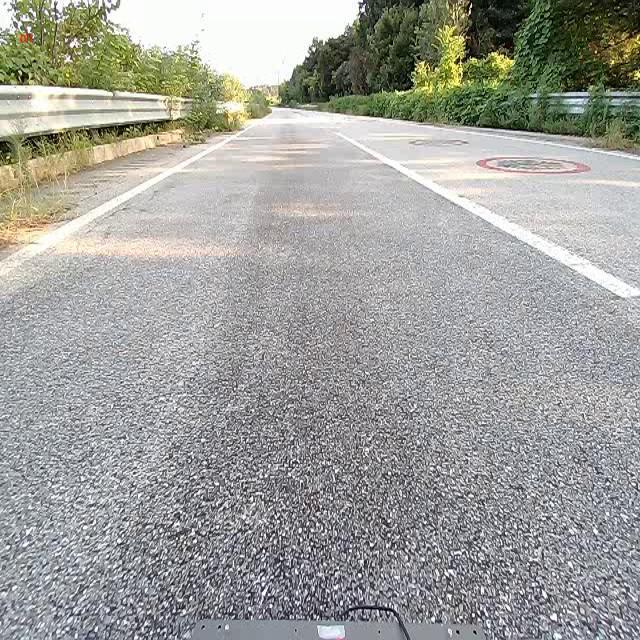Lane: (340, 127, 640, 302), (341, 132, 639, 298), (0, 118, 252, 280), (0, 126, 247, 277)
